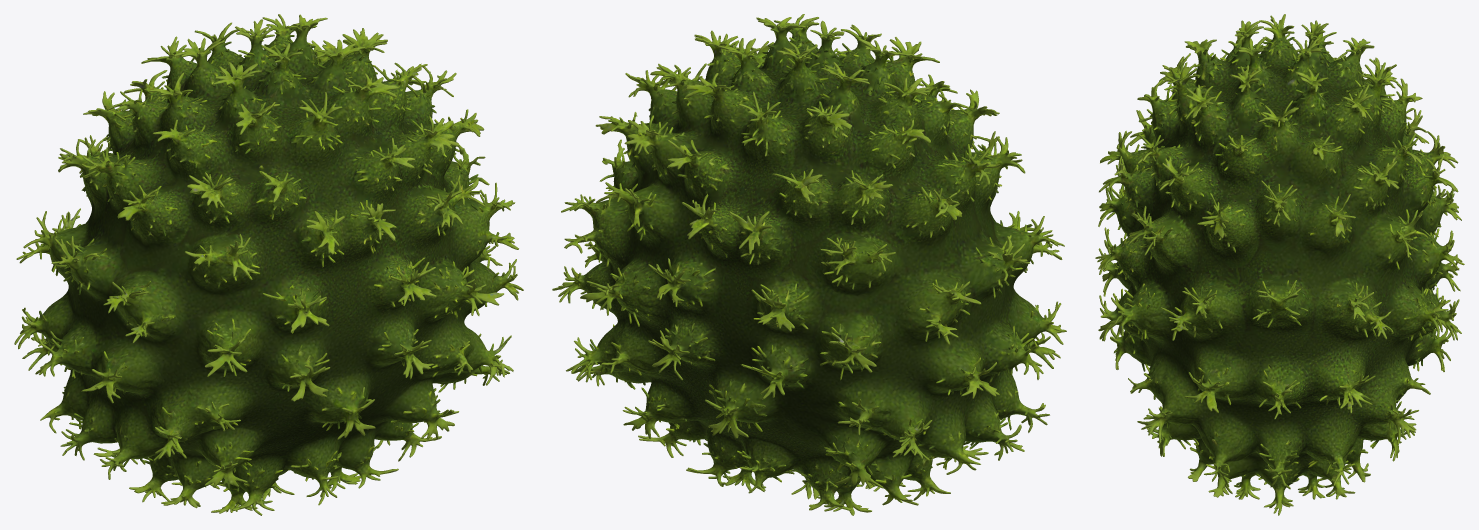
Rendered from bush.glb.
3 renders of one model, left to right at view 1: azimuth 30°, elevation 25°; view 2: azimuth 150°, elevation 25°; view 3: azimuth 270°, elevation 25°, orthographic. The views are drawn at different scales.
Parts seen in each view (by area): view 1: tripo_node_2d965343-88b8-4925-a79a-1ef708fae764; view 2: tripo_node_2d965343-88b8-4925-a79a-1ef708fae764; view 3: tripo_node_2d965343-88b8-4925-a79a-1ef708fae764.
Boxes of the visible parts, x1,y1,x2,y2 form: tripo_node_2d965343-88b8-4925-a79a-1ef708fae764: (14,14,523,515); tripo_node_2d965343-88b8-4925-a79a-1ef708fae764: (552,14,1066,515); tripo_node_2d965343-88b8-4925-a79a-1ef708fae764: (1095,14,1464,515).
Bounding box in the file's own units: 0.9809 × 0.929 × 0.7135.
Materials: 1 (1 with a texture image).
